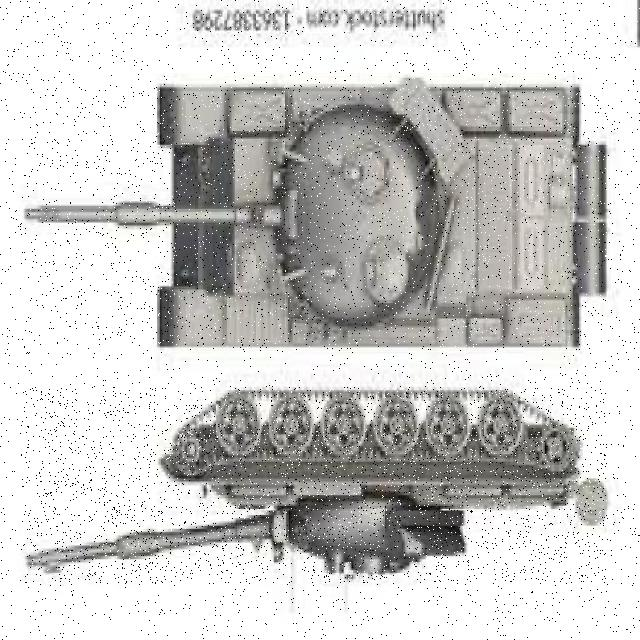MIL_MBT: (25, 86, 609, 345), (23, 387, 607, 584)
